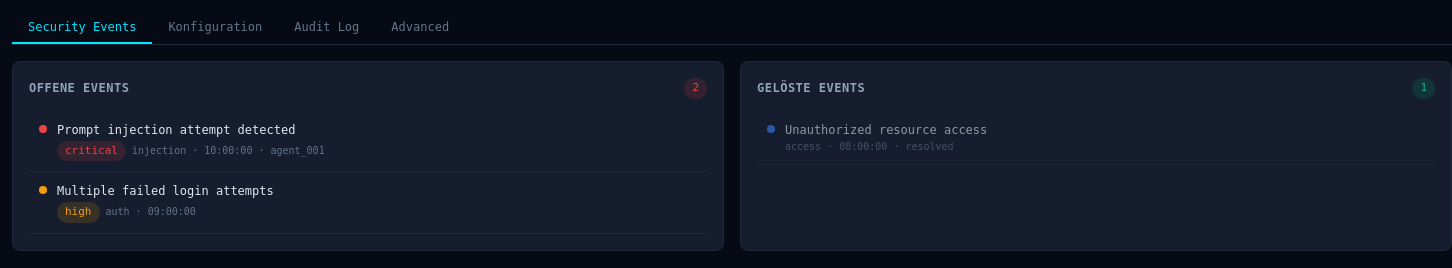
Scenario: SecurityView › switches to Audit Log tab
This screenshot has width=1452, height=268.
Click the button "Audit Log". click: (327,28)
box: [278,12,375,44]
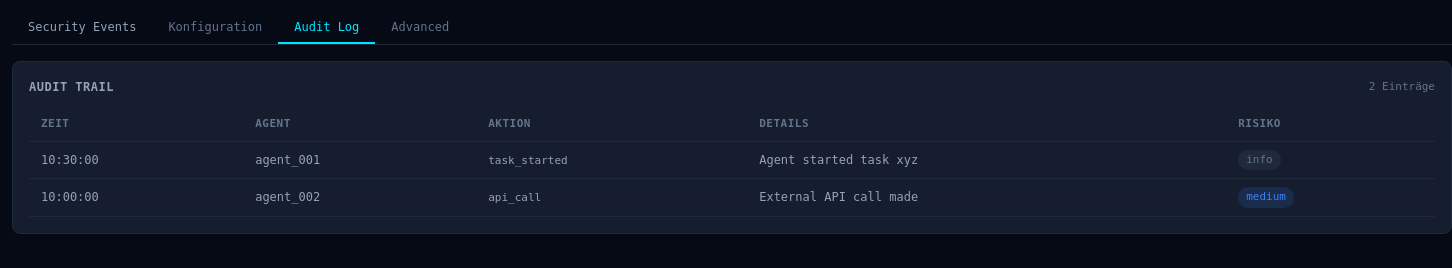
expect the text "Offene Events" is gone: met
